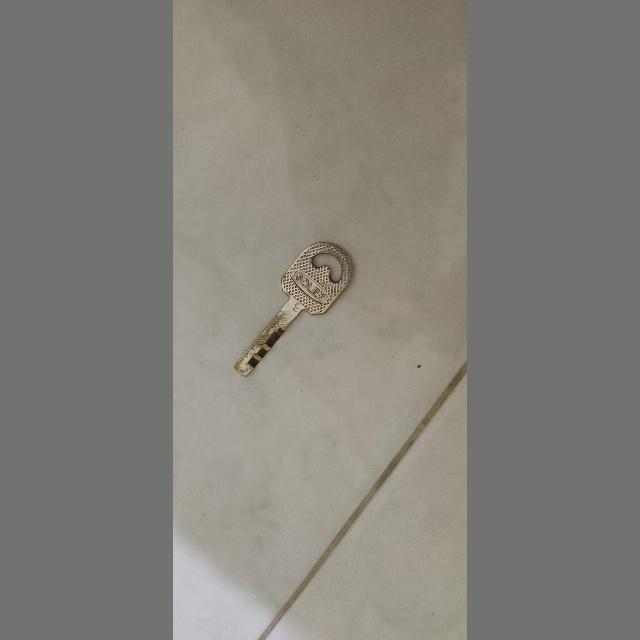Keys: (228, 228, 352, 368)
